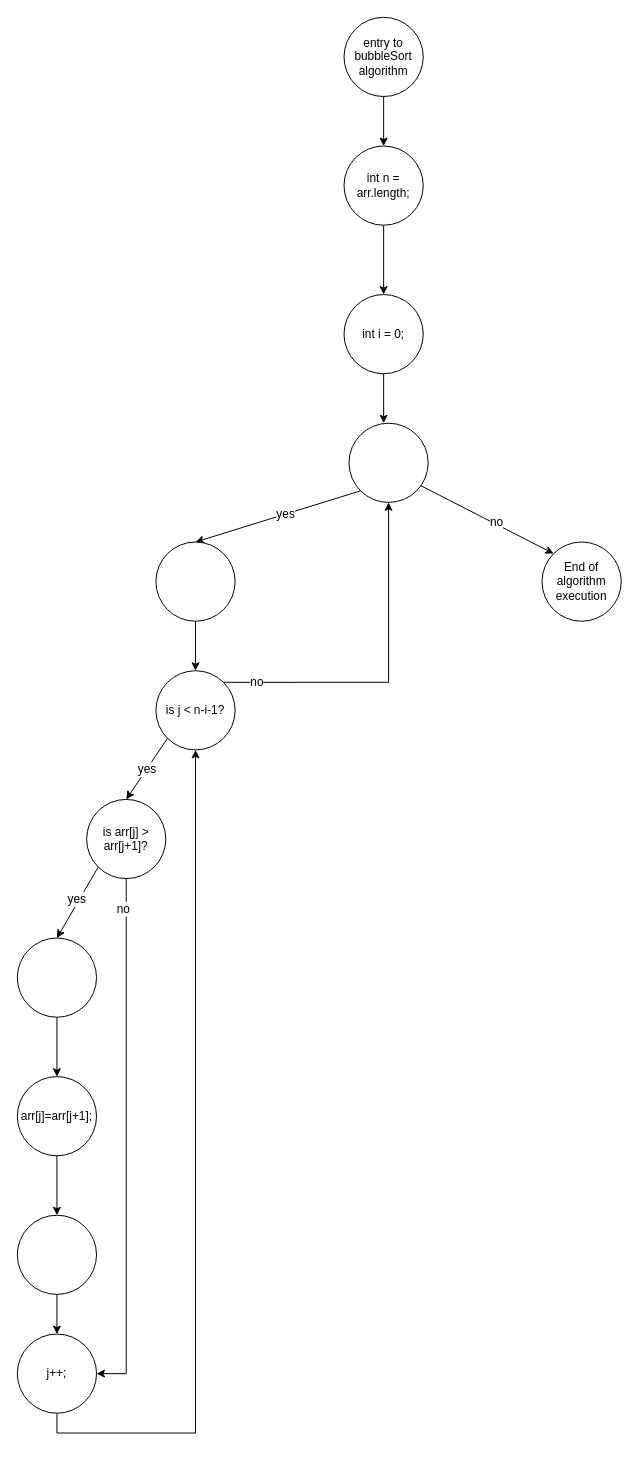
This 639x1458 diagram has some shape labels left out. The shapes that lost their labels are listed below. From the top down, each one's centre as x and y in pixels, then its label:
At pixel 388 462: "is i < n-1?".
At pixel 195 581: "int j = 0;".
At pixel 56 977: "int temp = arr[j];".
At pixel 56 1254: "arr[j+1] = temp;".
